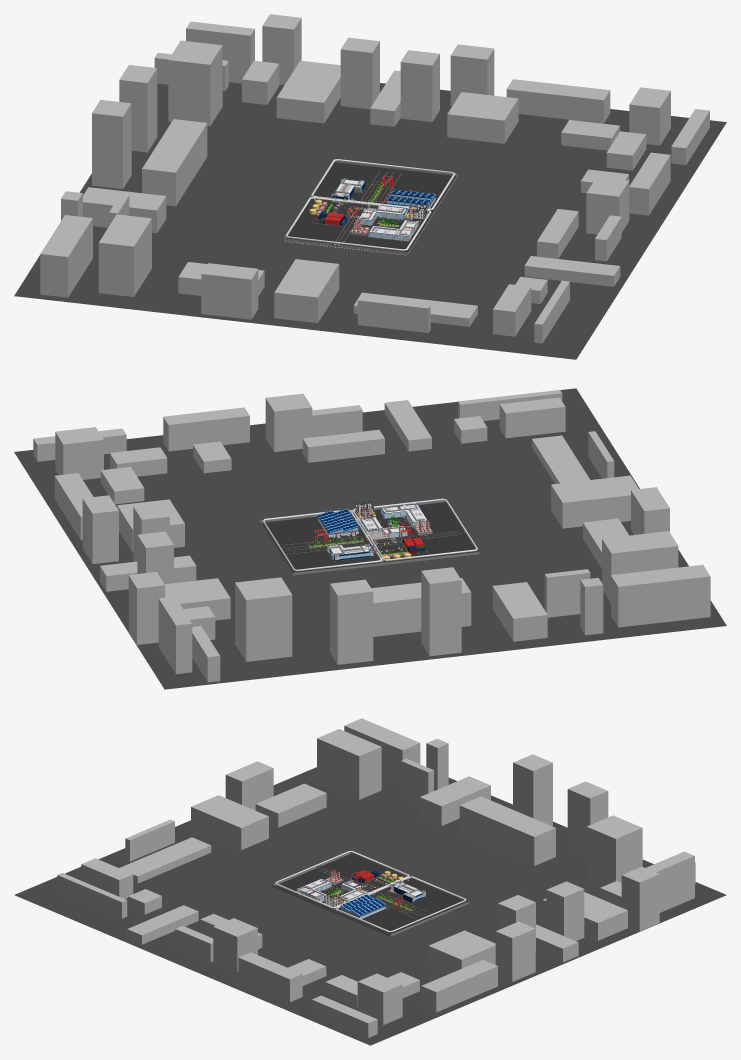
The picture shows the model from 3 angles, top to bottom: view 1: azimuth 30°, elevation 25°; view 2: azimuth 150°, elevation 25°; view 3: azimuth 270°, elevation 25°; orthographic projection. The views are drawn at different scales.
Visible parts, largest first — view 1: background, env_industry_main, pipe2, building_office.002, building_office; view 2: background, env_industry_main, pipe2, building_office.002, building_production, building_office, buidling_production_large.001; view 3: background, env_industry_main, pipe2.
Part boxes in pixels (x1,y1,x2,y2): background: [14, 14, 726, 359]; env_industry_main: [284, 160, 458, 255]; pipe2: [285, 159, 455, 250]; building_office.002: [367, 218, 419, 241]; building_office: [357, 205, 407, 225]; background: [14, 388, 726, 689]; env_industry_main: [259, 500, 479, 575]; pipe2: [262, 498, 477, 571]; building_office.002: [380, 502, 427, 527]; building_production: [327, 543, 375, 561]; building_office: [359, 515, 408, 540]; buidling_production_large.001: [318, 510, 356, 540]; background: [14, 718, 726, 1045]; env_industry_main: [272, 852, 469, 936]; pipe2: [275, 851, 466, 932].
Size of the model in its own units: 1287 by 128 by 1287.
13 materials, 11 textured.
